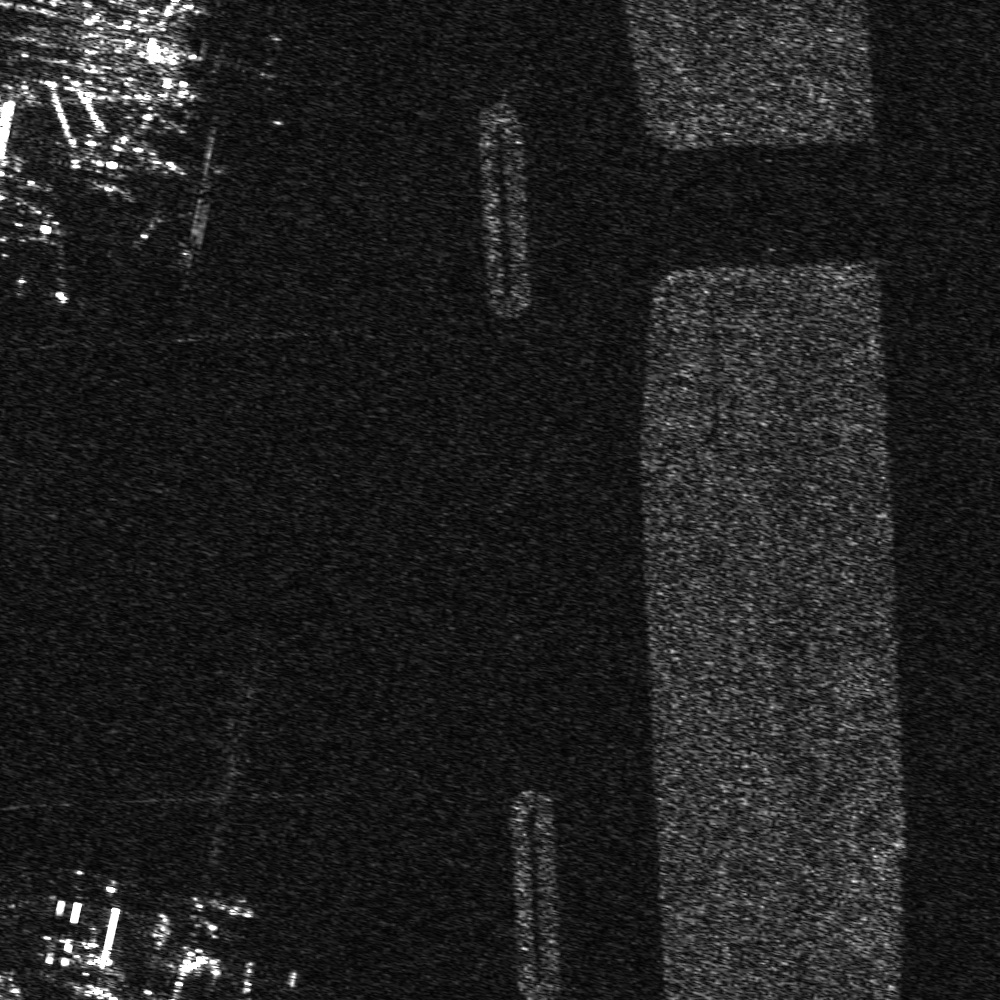A320/321: (120, 192, 209, 275)
